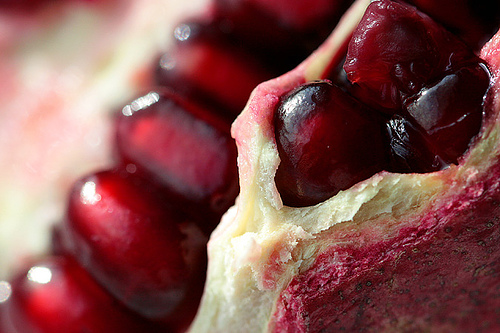pomogranate: (1, 1, 499, 332)
